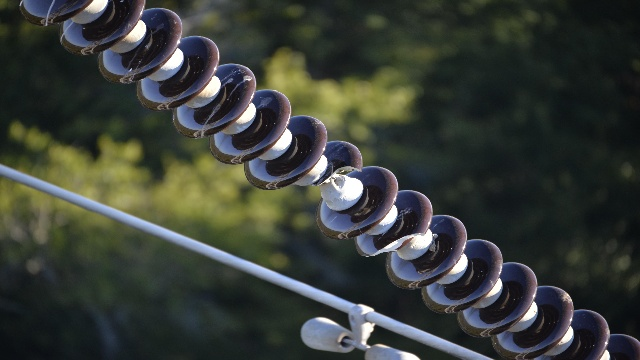broken_local: (358, 228, 431, 260), (305, 162, 365, 189)
insulator_unspecified: (18, 0, 639, 359)
